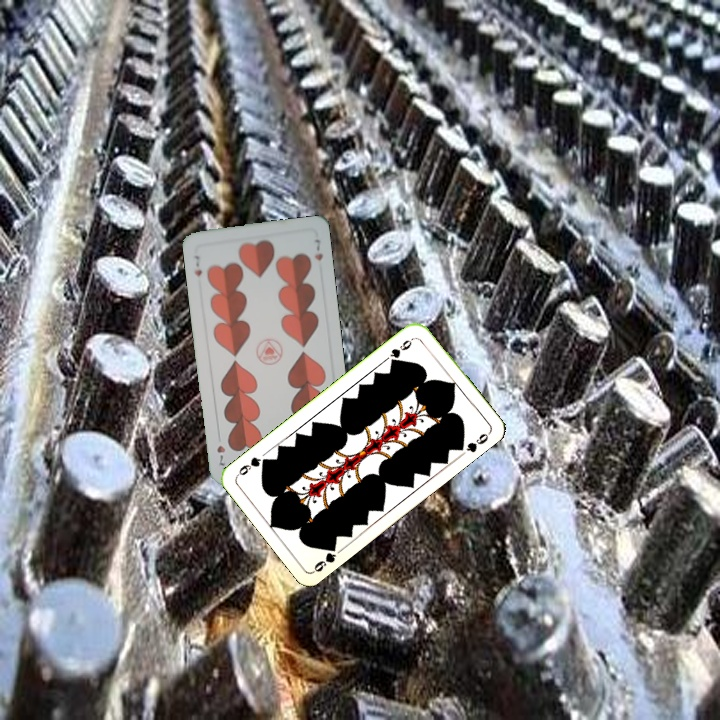G9: (309, 540, 339, 575), (386, 333, 417, 366)
H7: (190, 251, 204, 279)
